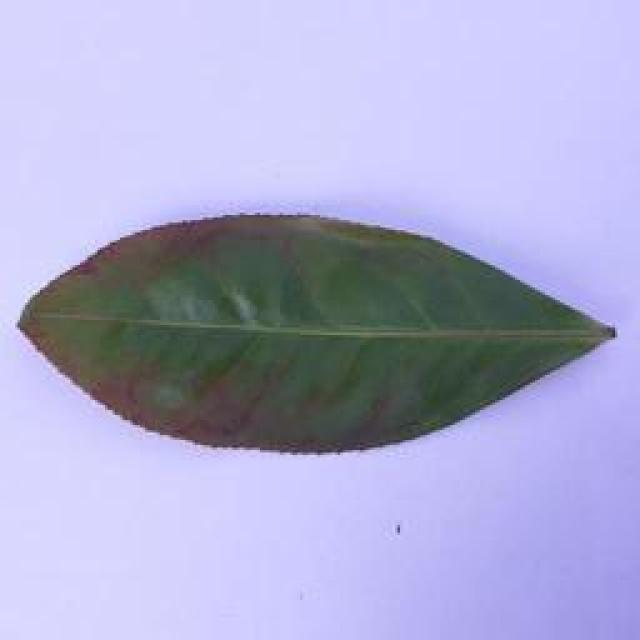Red Leaf Spot: (6, 201, 640, 465)
